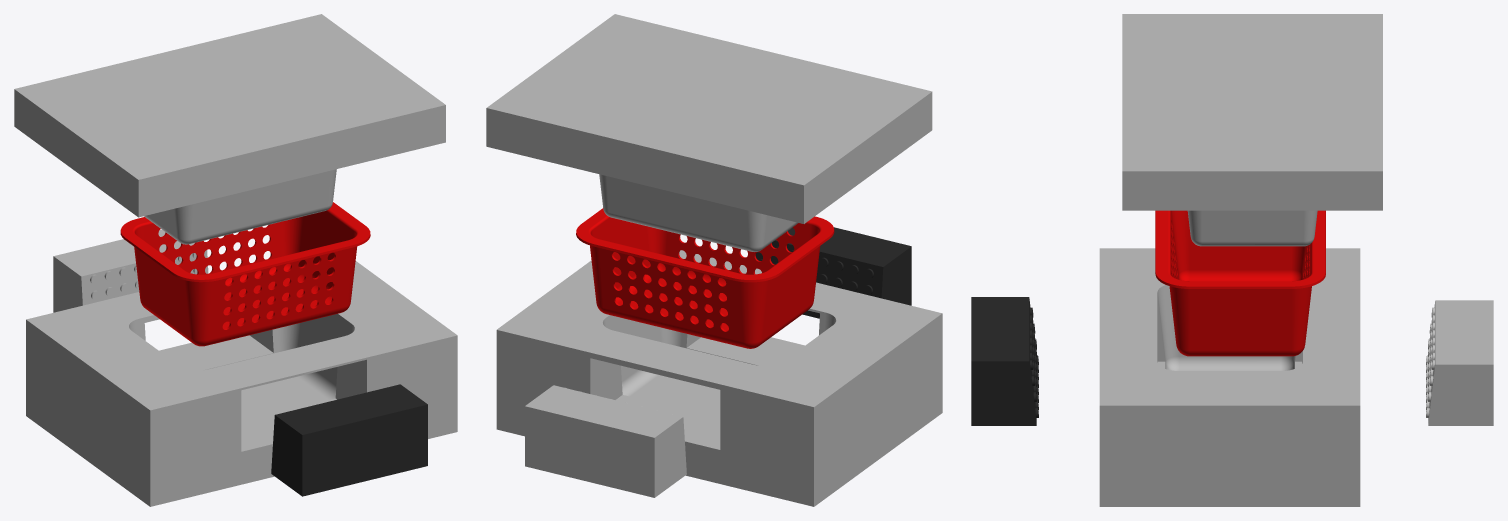
The picture shows the model from 3 angles, left to right: view 1: azimuth 30°, elevation 25°; view 2: azimuth 150°, elevation 25°; view 3: azimuth 270°, elevation 25°; orthographic projection. The views are drawn at different scales.
Parts seen in each view (by area): view 1: Tooling Split1[2]-1, Core16[1]-1, Parting Line1-1, Core11[2]-1, Core16[2]-1; view 2: Tooling Split1[2]-1, Core16[1]-1, Parting Line1-1, Core16[2]-1, Core11[2]-1; view 3: Tooling Split1[2]-1, Core16[1]-1, Parting Line1-1, Core11[2]-1, Core16[2]-1.
Part boxes in pixels (x1,y1,x2,y2): Tooling Split1[2]-1: (14,14,445,244); Core16[1]-1: (26,261,457,506); Parting Line1-1: (120,202,370,346); Core11[2]-1: (271,384,427,496); Core16[2]-1: (53,230,208,312); Tooling Split1[2]-1: (486,14,932,251); Core16[1]-1: (496,250,942,506); Parting Line1-1: (576,208,834,348); Core16[2]-1: (525,385,686,497); Core11[2]-1: (755,227,911,318); Tooling Split1[2]-1: (1122,14,1382,246); Core16[1]-1: (1099,248,1360,506); Parting Line1-1: (1155,210,1325,356); Core11[2]-1: (971,297,1038,425); Core16[2]-1: (1426,300,1493,425).
Bounding box in the file's own units: 0.301 × 0.2978 × 0.4207.
